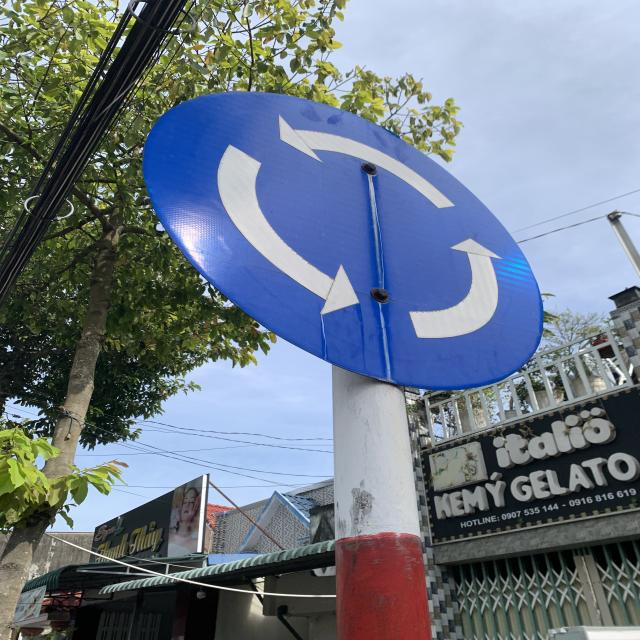Xe_Bus: (140, 89, 548, 392)
